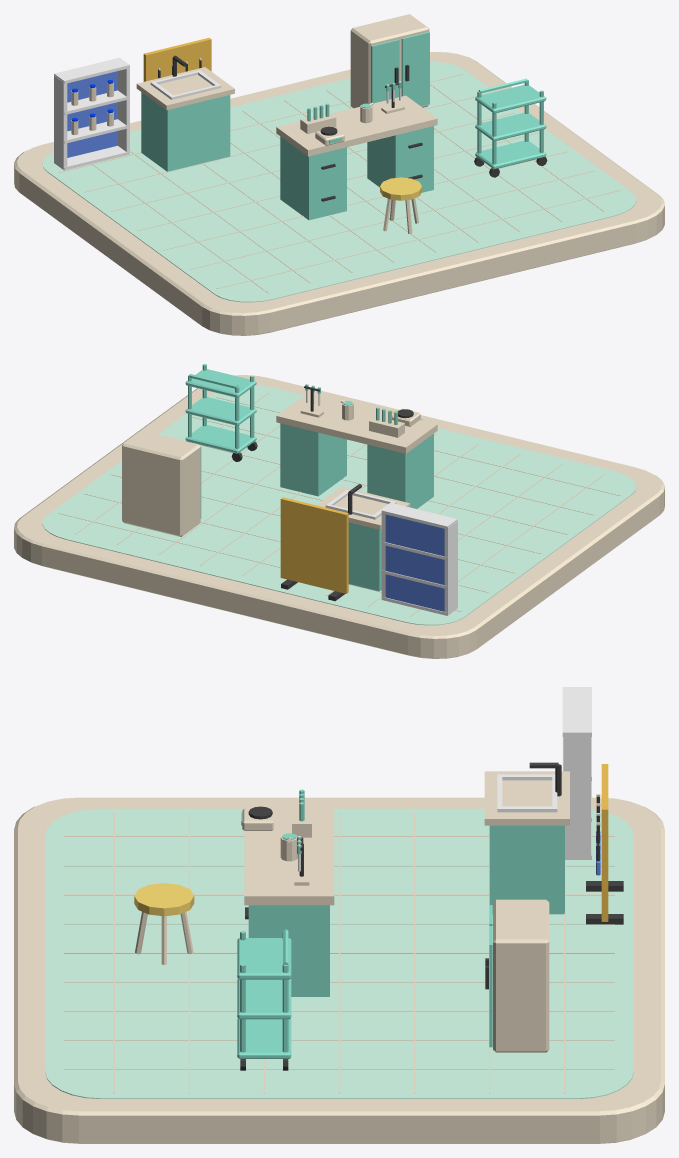
File: room.fbx
3 views of the same model, one above another, from view 1: azimuth 30°, elevation 25°; view 2: azimuth 150°, elevation 25°; view 3: azimuth 270°, elevation 25° (orthographic). The views are drawn at different scales.
Visible parts, largest first — view 1: COM-02 Floor Surface, COM-01 Rounded Base Direct, Cabinet, Storage module, Worktop, Storage module.001, Equipment case, Cabinet back, Counter, Door.001, Panel, Door (+13 smaller); view 2: COM-02 Floor Surface, COM-01 Rounded Base Direct, Equipment case, Panel, Cabinet back, Worktop, Storage module.001, Storage module, Cabinet, Counter, Clean supply cabinet side, Tray.001 (+4 smaller); view 3: COM-02 Floor Surface, COM-01 Rounded Base Direct, Equipment case, Worktop, Cabinet, Storage module.001, Counter, Clean supply cabinet side.001, Tray.002, Tray.001, Tray, Seat (+9 smaller).
Boxes of the visible parts, bbox=[...] form: COM-02 Floor Surface: bbox=[42, 62, 636, 302]; COM-01 Rounded Base Direct: bbox=[14, 52, 664, 335]; Cabinet: bbox=[141, 92, 230, 171]; Storage module: bbox=[280, 136, 346, 220]; Worktop: bbox=[276, 95, 437, 156]; Storage module.001: bbox=[367, 126, 433, 192]; Equipment case: bbox=[350, 14, 429, 108]; Cabinet back: bbox=[67, 71, 117, 157]; Counter: bbox=[136, 67, 234, 110]; Door.001: bbox=[401, 32, 429, 106]; Panel: bbox=[143, 37, 211, 81]; Door: bbox=[371, 39, 399, 103]; COM-02 Floor Surface: bbox=[42, 385, 636, 625]; COM-01 Rounded Base Direct: bbox=[14, 375, 664, 658]; Equipment case: bbox=[122, 430, 200, 536]; Panel: bbox=[280, 497, 348, 593]; Cabinet back: bbox=[385, 514, 444, 611]; Worktop: bbox=[276, 393, 437, 453]; Storage module.001: bbox=[280, 423, 346, 496]; Storage module: bbox=[367, 434, 433, 508]; Cabinet: bbox=[348, 522, 381, 591]; Counter: bbox=[316, 486, 410, 529]; Clean supply cabinet side: bbox=[444, 520, 457, 614]; Tray.001: bbox=[185, 397, 256, 425]; COM-02 Floor Surface: bbox=[45, 808, 633, 1098]; COM-01 Rounded Base Direct: bbox=[14, 797, 664, 1143]; Equipment case: bbox=[493, 899, 549, 1052]; Worktop: bbox=[244, 806, 334, 905]; Cabinet: bbox=[489, 825, 564, 914]; Storage module.001: bbox=[248, 905, 329, 996]; Counter: bbox=[484, 771, 569, 825]; Clean supply cabinet side.001: bbox=[563, 735, 591, 859]; Tray.002: bbox=[237, 938, 291, 979]; Tray.001: bbox=[237, 978, 291, 1019]; Tray: bbox=[237, 1018, 291, 1058]; Seat: bbox=[134, 883, 194, 916].
Bounding box in the file's own units: 600 × 154 × 520.
